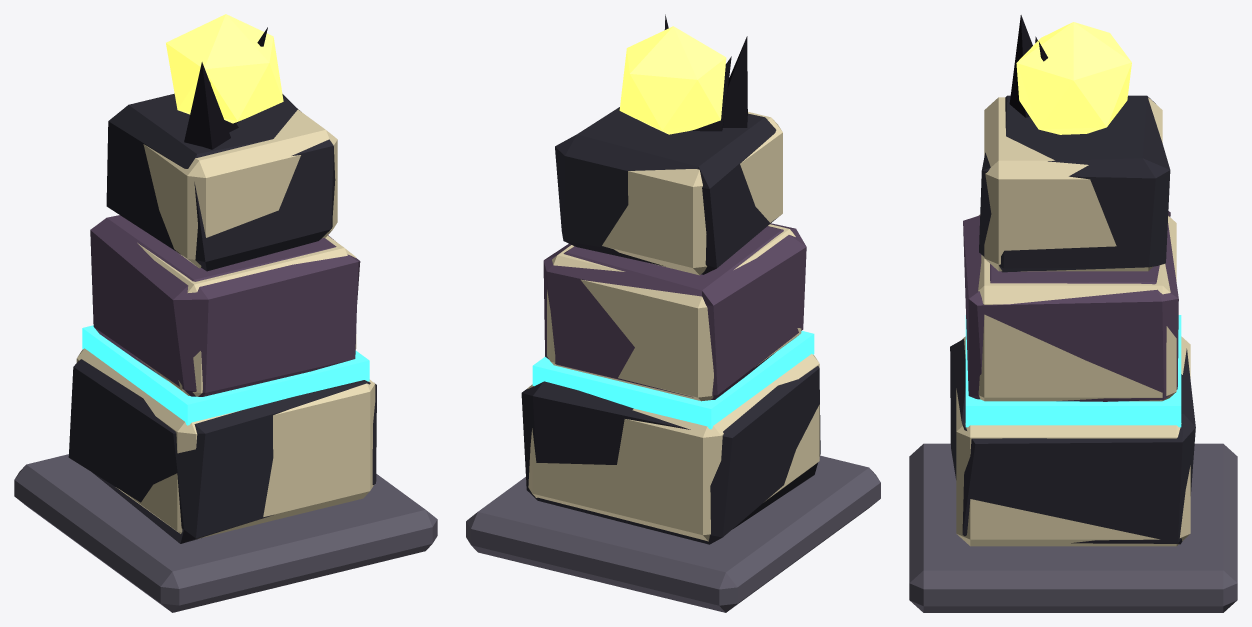
The model's file is training_post.glb.
3 renders of one model, left to right at view 1: azimuth 30°, elevation 25°; view 2: azimuth 150°, elevation 25°; view 3: azimuth 270°, elevation 25°, orthographic. The views are drawn at different scales.
Parts seen in each view (by area): view 1: training_post_corrupted, training_post_restored; view 2: training_post_corrupted, training_post_restored; view 3: training_post_corrupted, training_post_restored.
Part boxes in pixels (box(x1,y1,x2,y2)): training_post_corrupted: box(14, 27, 437, 612); training_post_restored: box(76, 14, 375, 538); training_post_corrupted: box(466, 14, 880, 612); training_post_restored: box(527, 26, 819, 541); training_post_corrupted: box(909, 15, 1237, 612); training_post_restored: box(956, 22, 1190, 546).
Bounding box in the file's own units: 0.7 × 1.24 × 0.7.
